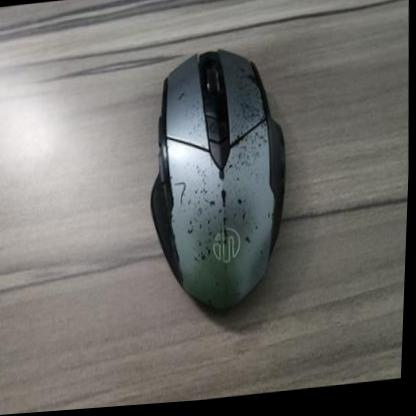mouserotation: (142, 43, 295, 322)
